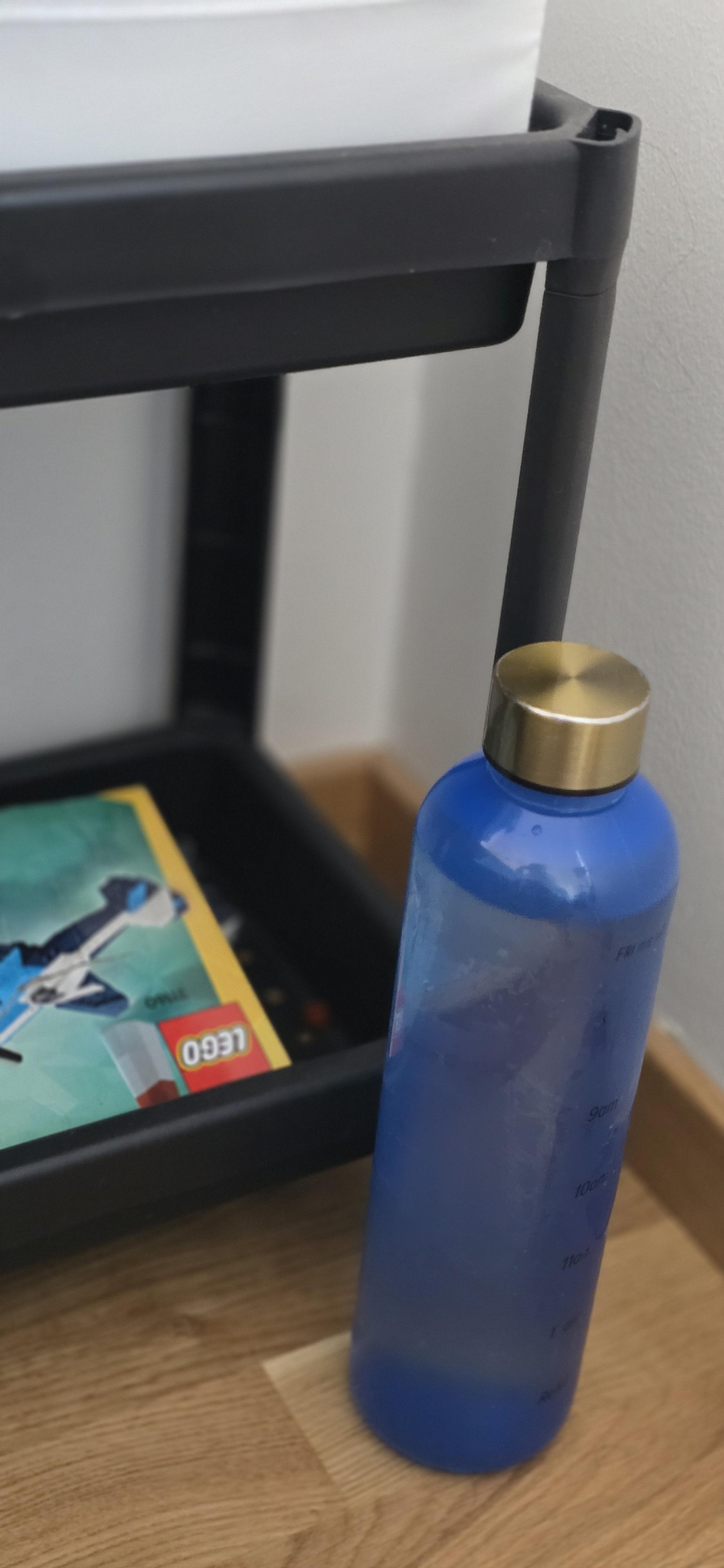bottle: (353, 585, 696, 1527)
